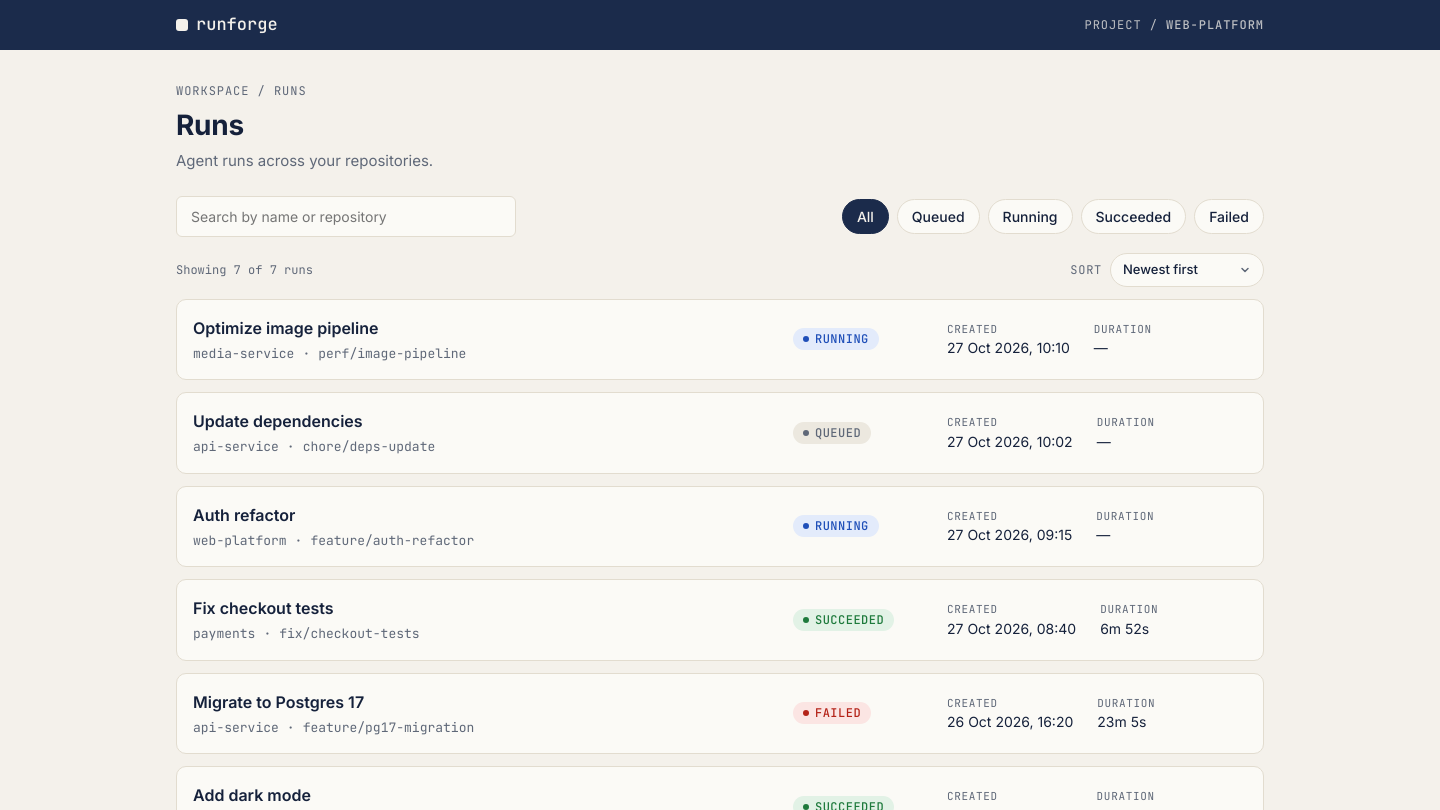
Scenario: Runs page › searches runs by name or repository
Check: the link "Auth refactor" is shown, box left=193, top=504, right=295, bottom=524
Type "payments" into the search field. click: x=346, y=216
box: left=176, top=196, right=516, bottom=237
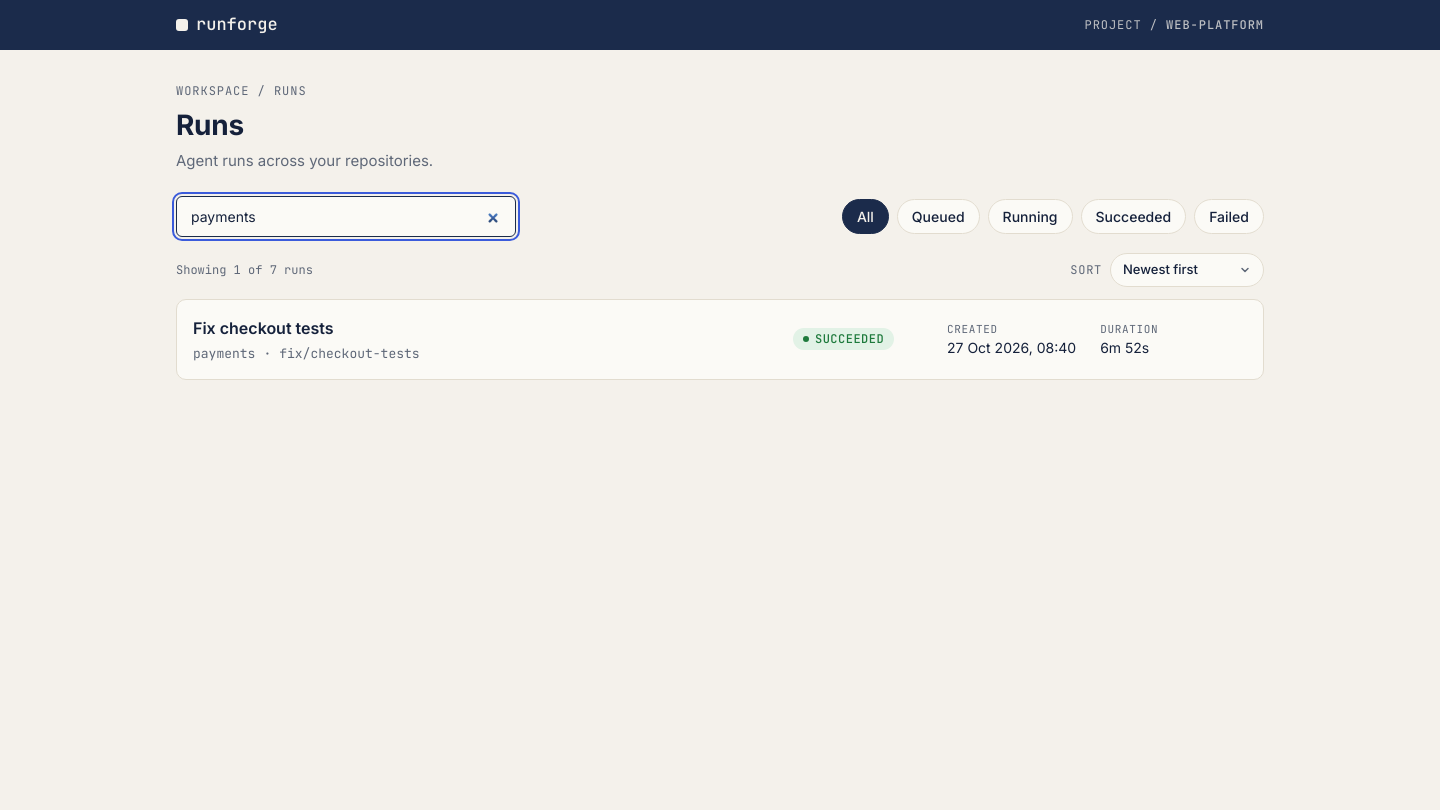
Check: the link "Fix checkout tests" is shown, box left=193, top=318, right=334, bottom=338
Check: the number of list items is 1, box left=176, top=298, right=1264, bottom=380
